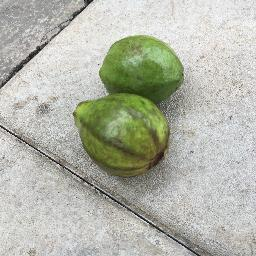Good_guava: (72, 93, 170, 175), (97, 32, 187, 99)
